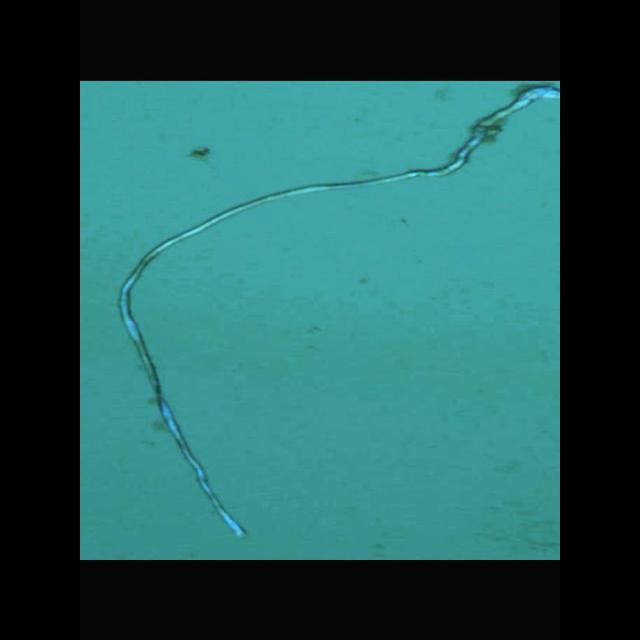Fibre: (116, 82, 560, 536)
